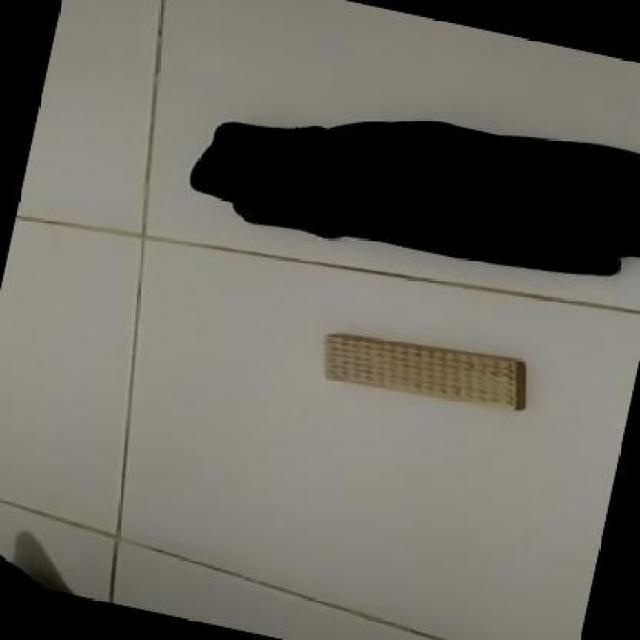Guantes: (188, 116, 639, 278)
